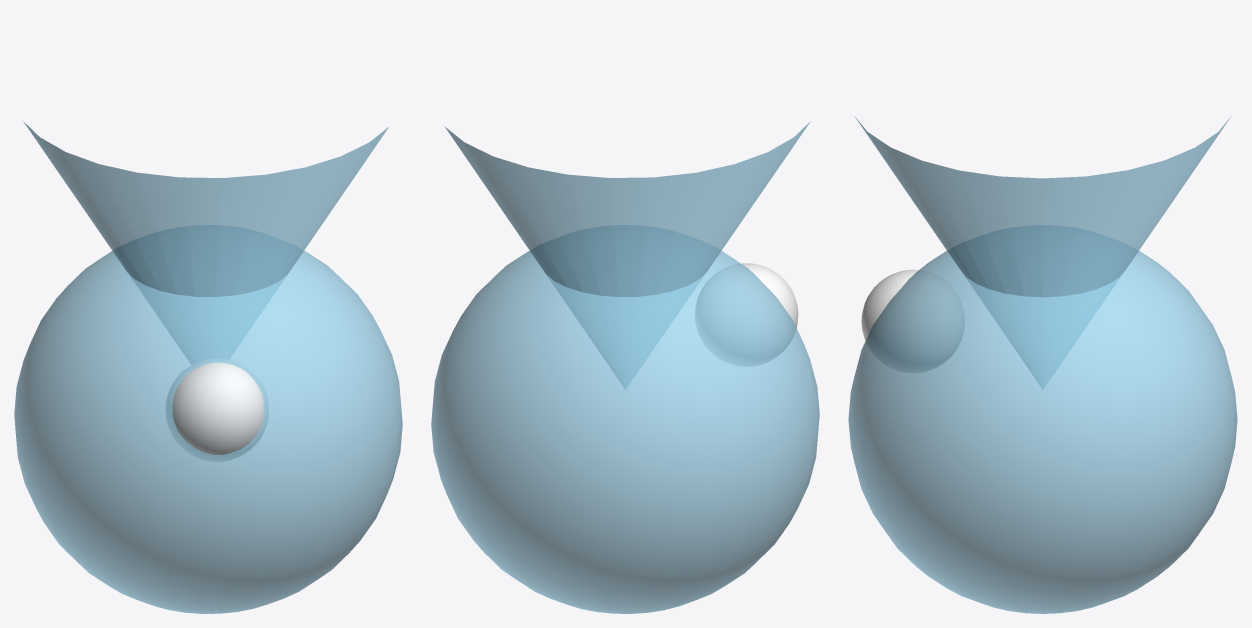
Rendered from water-droplet.glb.
The picture shows the model from 3 angles, left to right: view 1: azimuth 30°, elevation 25°; view 2: azimuth 150°, elevation 25°; view 3: azimuth 270°, elevation 25°; orthographic projection.
Parts seen in each view (by area): view 1: droplet, droplet_tip, highlight; view 2: droplet, droplet_tip, highlight; view 3: droplet, droplet_tip, highlight.
Part boxes in pixels (x1,y1,x2,y2): droplet: (14, 225, 402, 613); droplet_tip: (23, 121, 388, 364); highlight: (165, 359, 268, 461); droplet: (431, 225, 819, 613); droplet_tip: (445, 121, 810, 388); highlight: (695, 263, 798, 366); droplet: (848, 225, 1237, 613); droplet_tip: (854, 116, 1231, 388); highlight: (861, 269, 964, 372).
Bounding box in the file's own units: 0.9991 × 1.42 × 0.9991.
